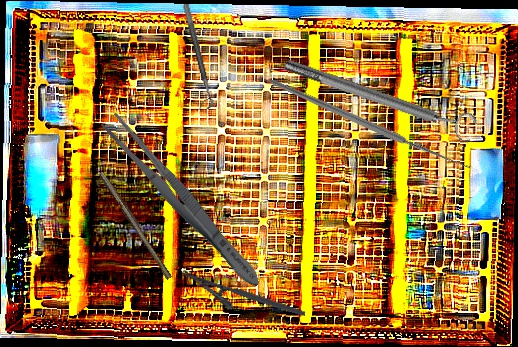Dressing Forceps: (96, 108, 269, 295)
Fixation Ring: (280, 47, 480, 147), (173, 3, 216, 111)
Hook Surgical: (268, 8, 480, 235)
Needle Holder: (174, 268, 307, 334)
Scalpel Handle: (96, 169, 176, 281)
